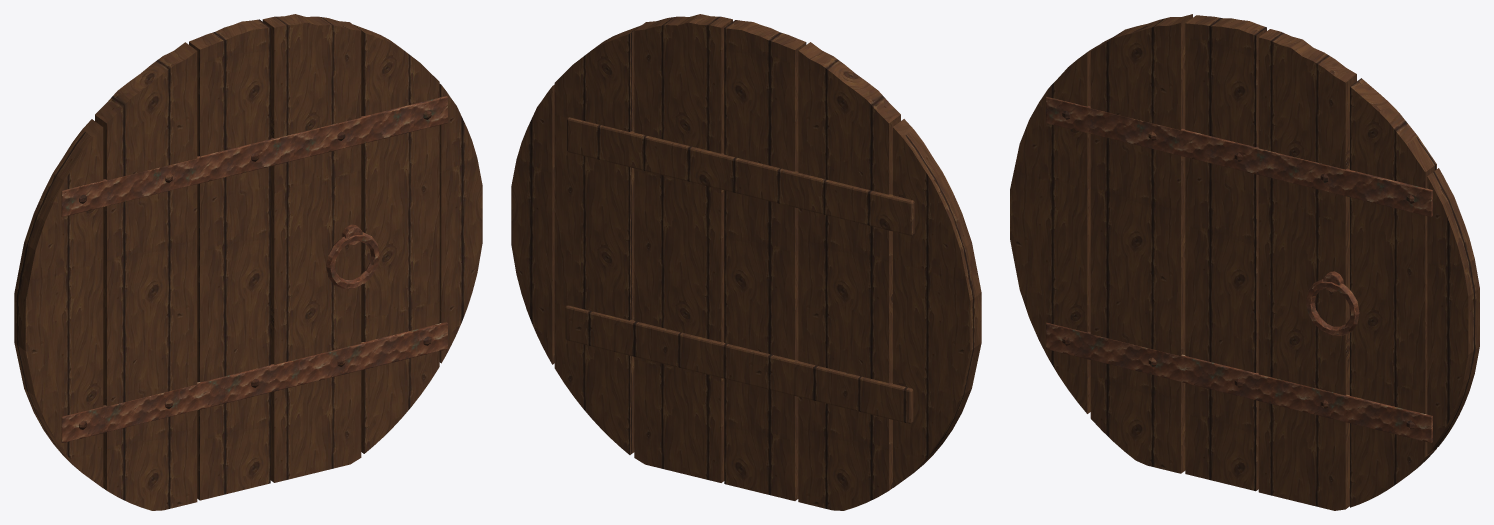
File: door__cut_stone.glb
The picture shows the model from 3 angles, left to right: view 1: azimuth 30°, elevation 25°; view 2: azimuth 150°, elevation 25°; view 3: azimuth 330°, elevation 25°; orthographic projection.
Visible parts, largest first — view 1: model; view 2: model; view 3: model.
Part boxes in pixels (bbox=[...]): model: bbox=[14, 14, 482, 510]; model: bbox=[511, 14, 981, 510]; model: bbox=[1010, 14, 1479, 510].
Bounding box in the file's own units: 1.53 × 1.46 × 0.1041.
3 materials, 3 textured.
